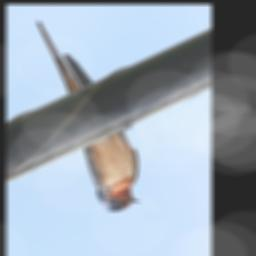Swallow: (36, 21, 140, 213)
